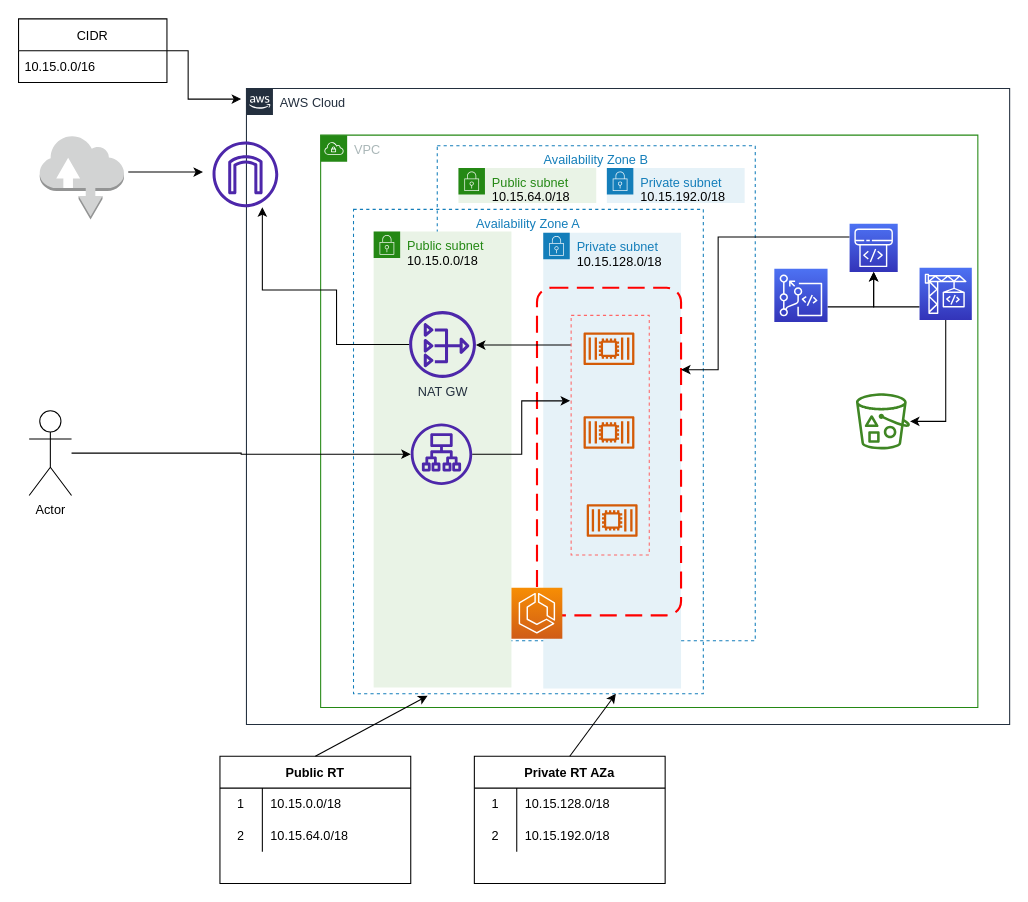
Image size: 1028x902. Some labels were removed from this diagram. The centre of each missing label's shape, as x and y in pixels:
ALB: the point at 441,453
Code Build: the point at 945,293
Code Commit: the point at 800,295
Code Pipeline: the point at 873,247
IGW: the point at 245,174
S3 FSx for Lustre Data Repository: the point at 882,421
